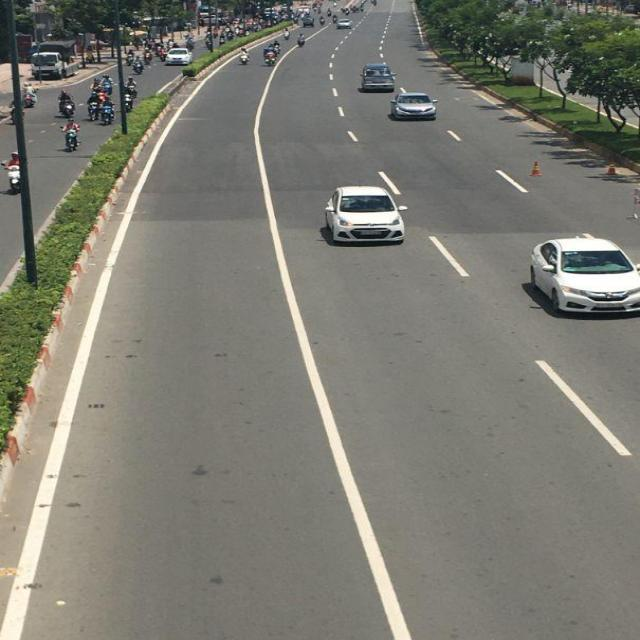car: (526, 235, 640, 317), (322, 187, 408, 246), (390, 91, 436, 121), (358, 60, 396, 92), (164, 48, 191, 66), (337, 20, 352, 29)
motorcycle: (61, 120, 82, 152), (87, 98, 114, 122)
truck: (32, 41, 84, 80)
